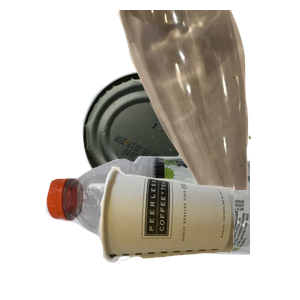glass: (115, 10, 300, 190)
metal: (80, 68, 284, 248)
plastic: (43, 152, 283, 300)
trash: (95, 164, 300, 300)
